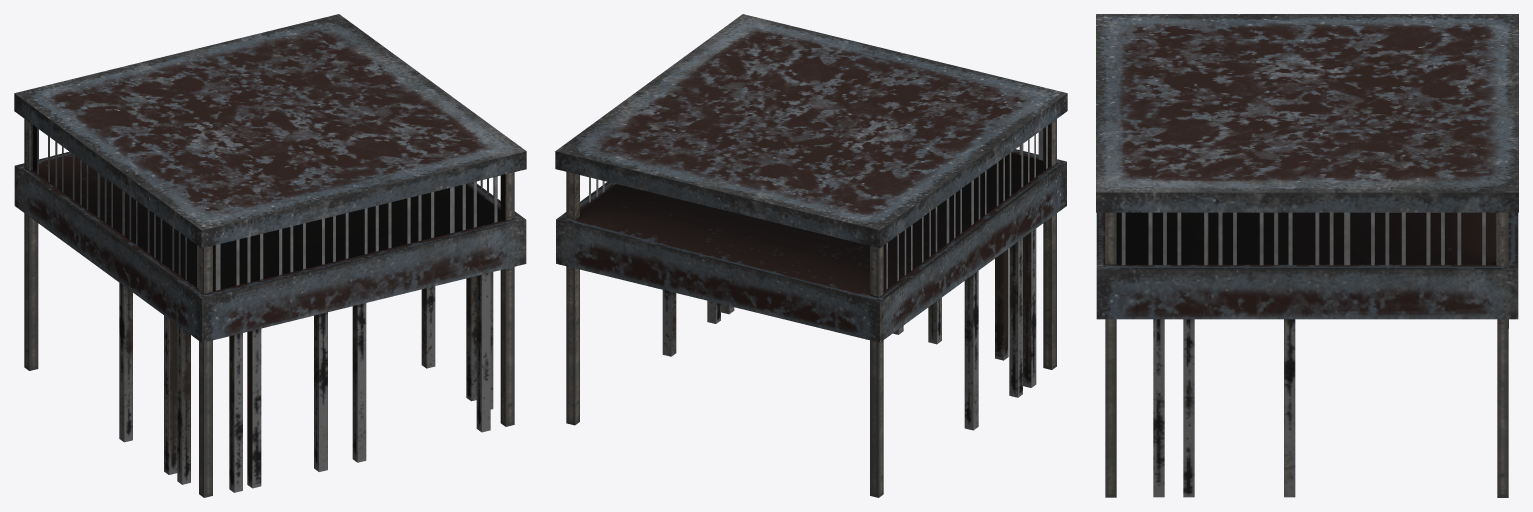
Rendered from podstavka_for_unity.obj.
3 views of the same model, side by side, from view 1: azimuth 30°, elevation 25°; view 2: azimuth 150°, elevation 25°; view 3: azimuth 270°, elevation 25° (orthographic). The views are drawn at different scales.
Parts seen in each view (by area): view 1: raketa_for_unity_mtl:Mesh; view 2: raketa_for_unity_mtl:Mesh; view 3: raketa_for_unity_mtl:Mesh.
Part boxes in pixels (x1=…): raketa_for_unity_mtl:Mesh: x1=14, y1=14, x2=526, y2=497; raketa_for_unity_mtl:Mesh: x1=555, y1=14, x2=1067, y2=497; raketa_for_unity_mtl:Mesh: x1=1096, y1=14, x2=1518, y2=497.
Bounding box in the file's own units: 95.94 × 77.46 × 95.94.
1 material, 1 textured.
